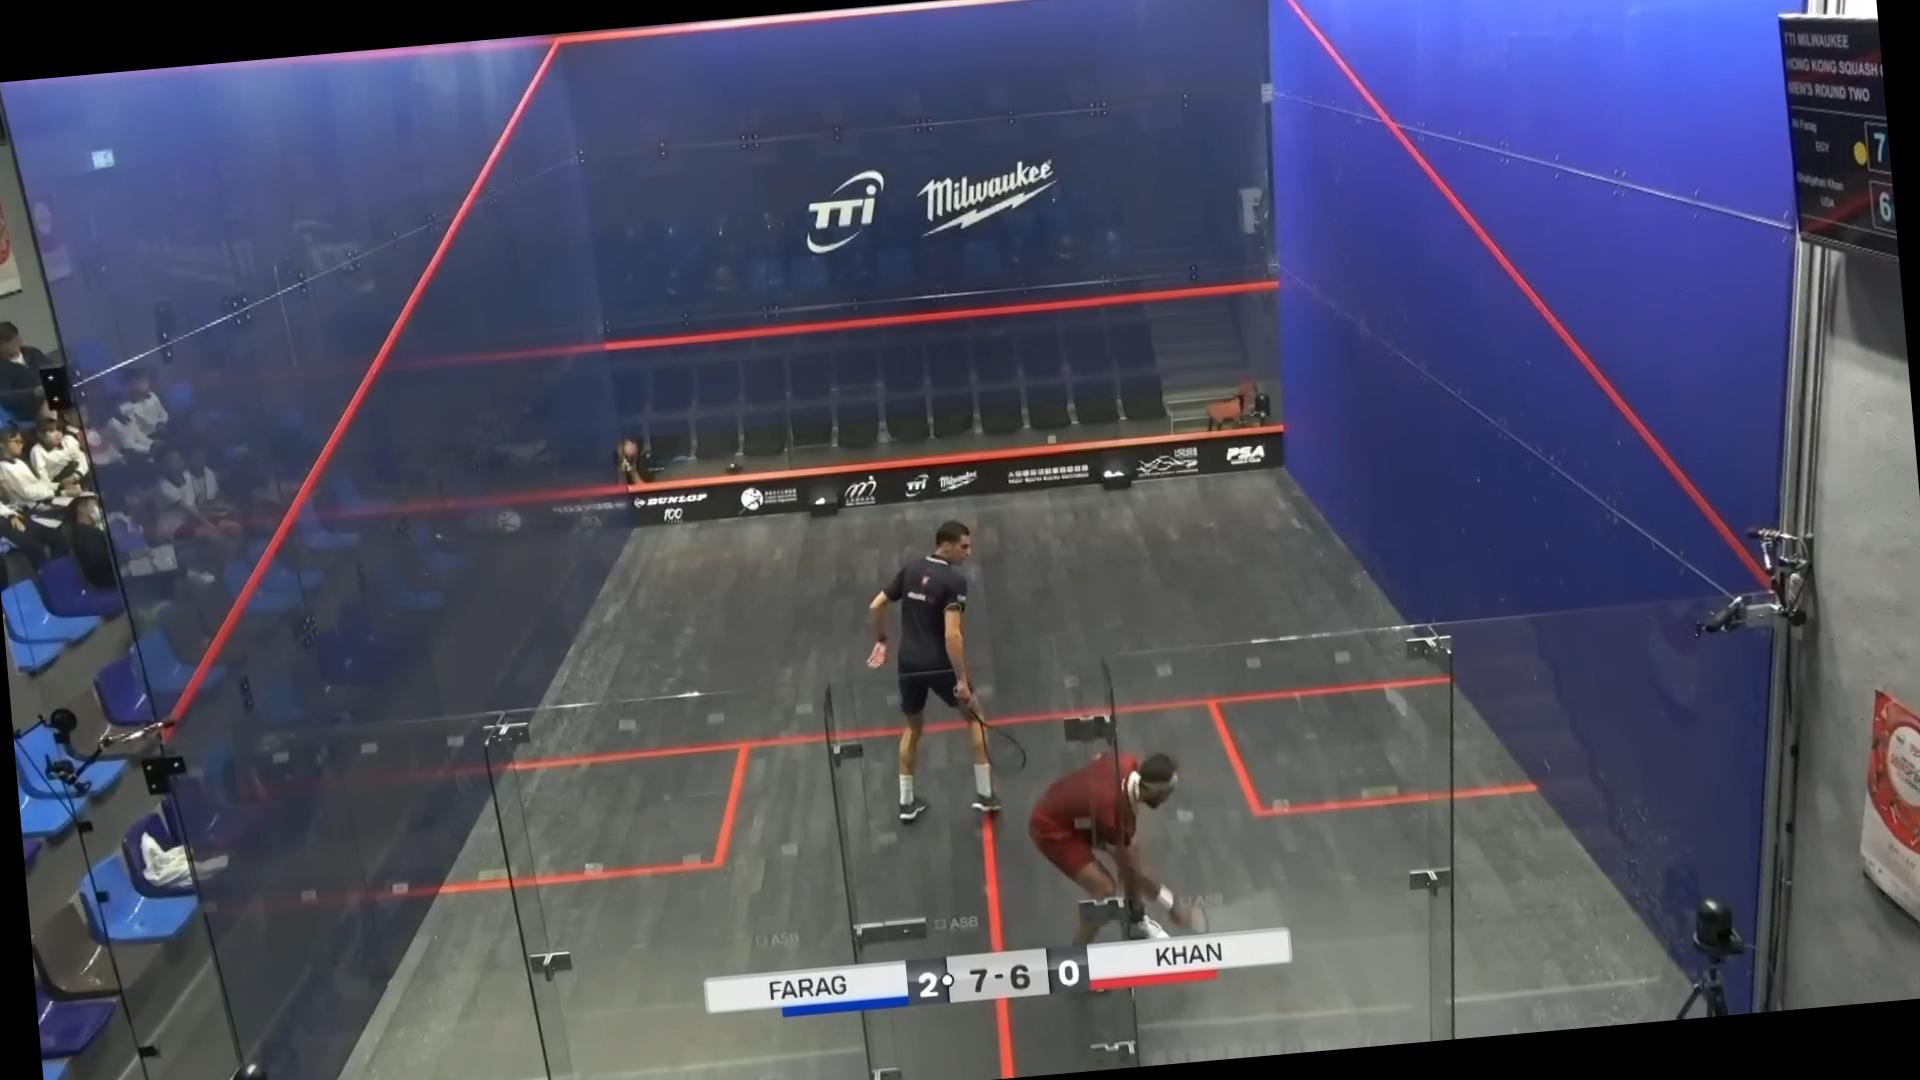Racket: (963, 698, 1033, 778)
